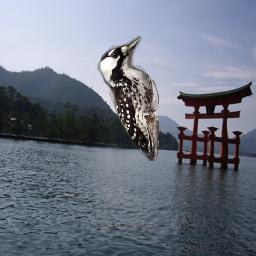Woodpecker: (97, 36, 159, 161)
